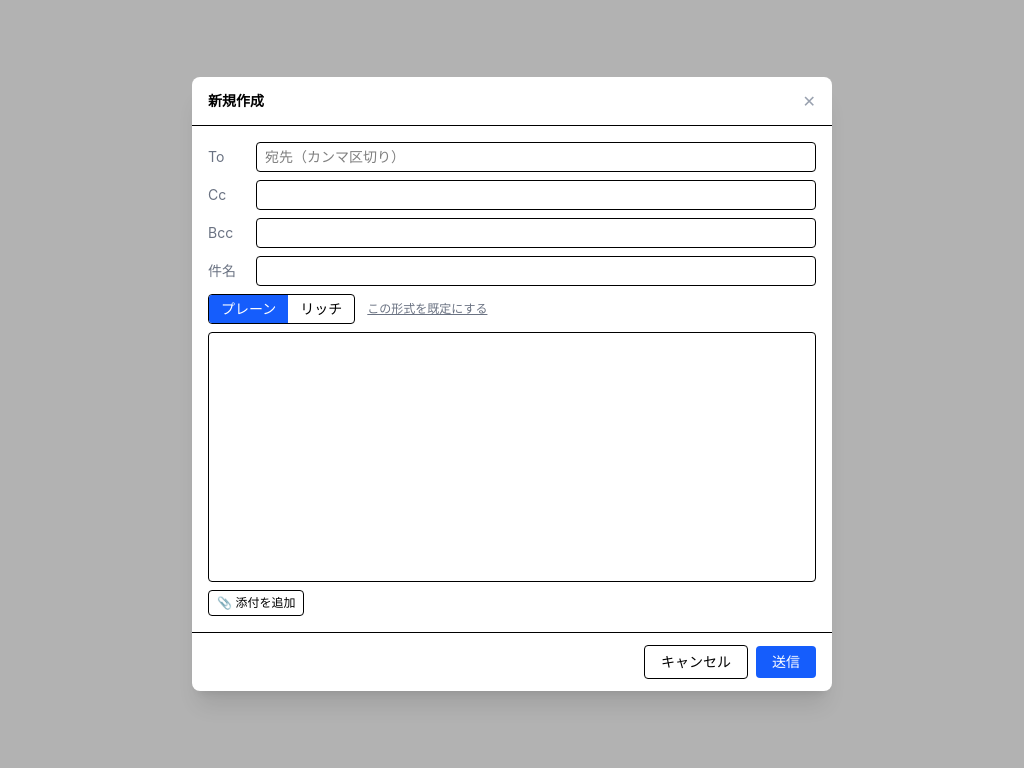
ComposeModal › adds picked attachments and lists them with size
The image size is (1024, 768).
Click the button "📎 添付を追加" at (256, 603), box x1=208 y1=590 x2=304 y2=616
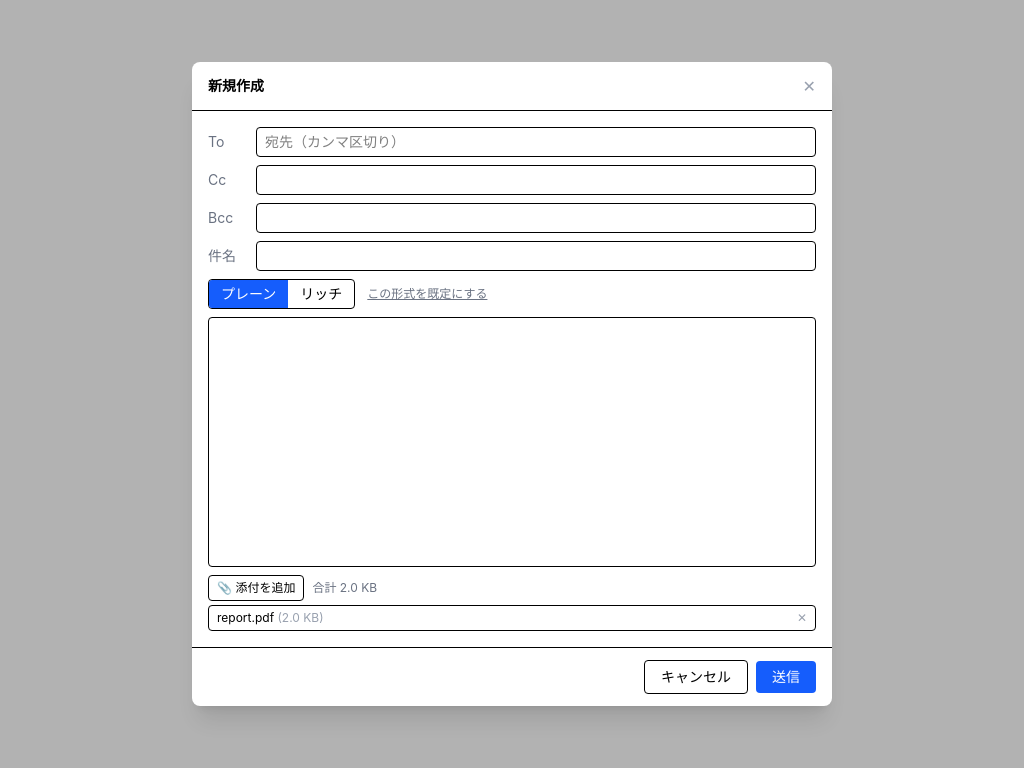
Result: the list item shows "report.pdf" at x1=217 y1=610 x2=274 y2=625
Result: the list item shows "2.0 KB" at x1=282 y1=610 x2=319 y2=625
